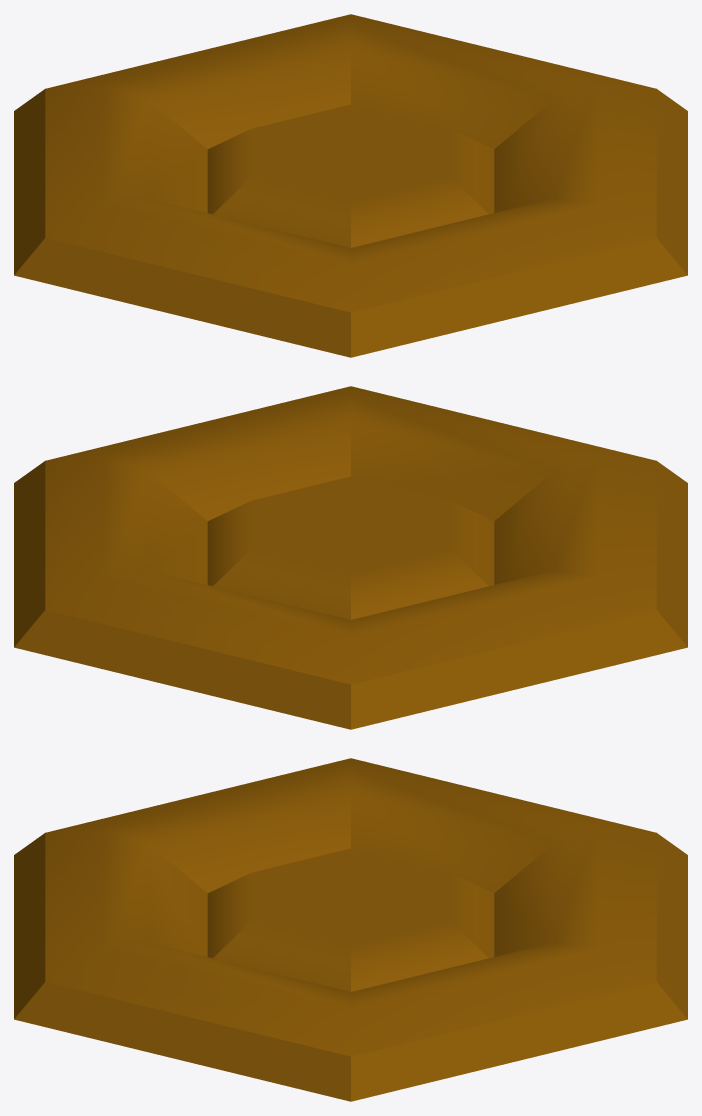
The model's file is buttonRound.fbx.
The picture shows the model from 3 angles, top to bottom: view 1: azimuth 30°, elevation 25°; view 2: azimuth 150°, elevation 25°; view 3: azimuth 270°, elevation 25°; orthographic projection.
Parts seen in each view (by area): view 1: buttonRound; view 2: buttonRound; view 3: buttonRound.
Boxes of the visible parts, box(x1,y1,x2,y2) form: buttonRound: box(14, 14, 687, 357); buttonRound: box(14, 386, 687, 729); buttonRound: box(14, 758, 687, 1101).
Size of the model in its own units: 58 by 4 by 50.23.
